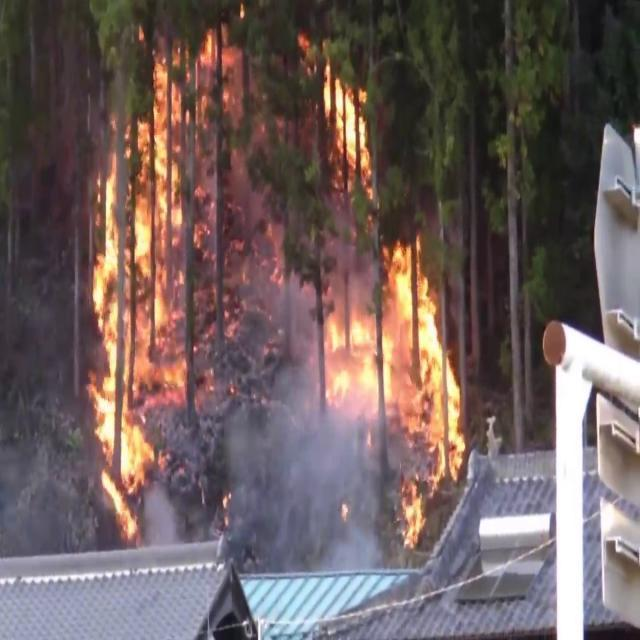Fire: (79, 43, 211, 524), (314, 226, 471, 534), (318, 40, 374, 189)
Smoke: (225, 384, 382, 573)
